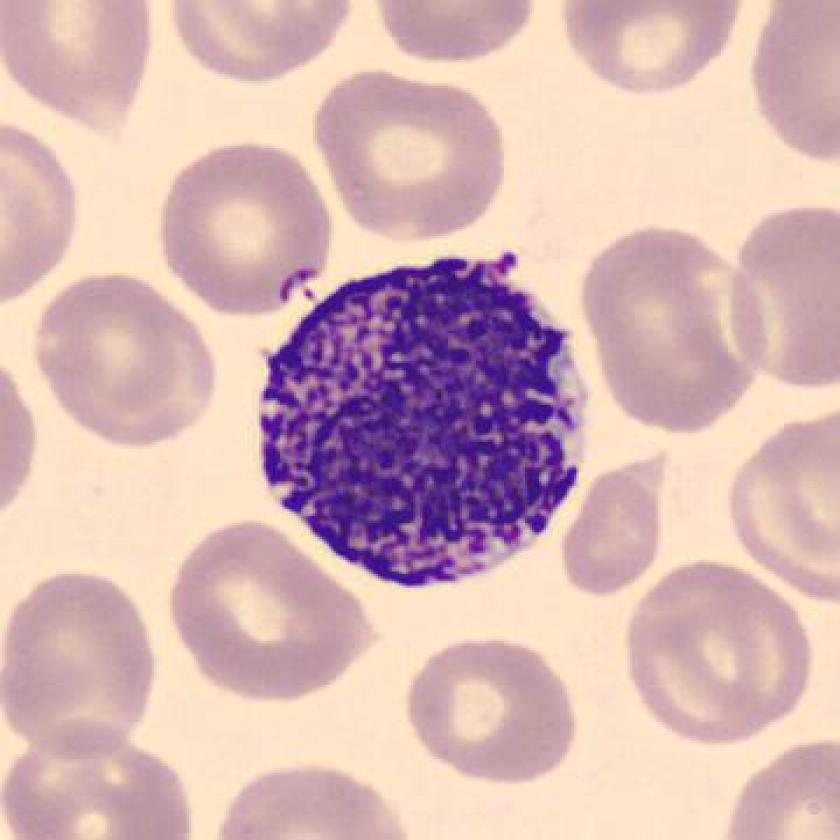basophil: (246, 239, 596, 591)
